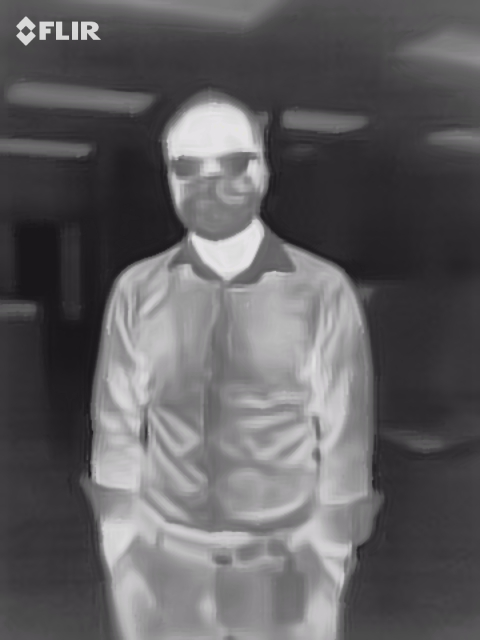head: (159, 87, 271, 241)
